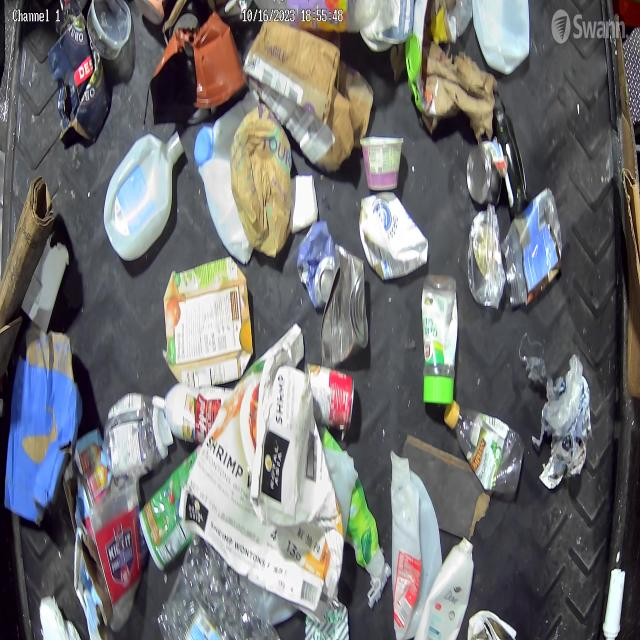can: (319, 242, 371, 366), (296, 220, 337, 310), (304, 364, 354, 434), (467, 141, 503, 206)
milk_jug: (104, 131, 184, 260), (390, 450, 442, 640), (194, 103, 253, 266), (359, 192, 428, 280), (472, 0, 531, 75)
non_white_jug: (162, 257, 254, 387)
plastic_bottle: (443, 401, 524, 498)
